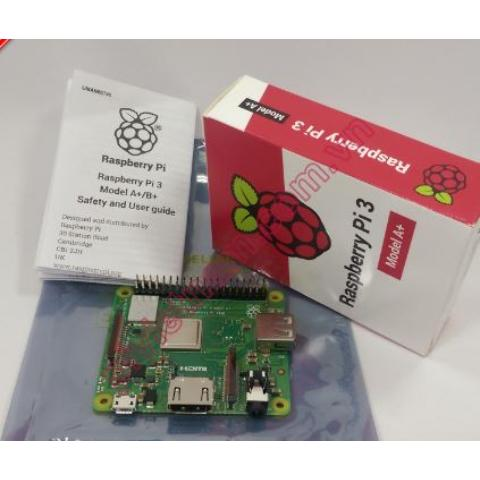Raspberry-Pi-3-Model-A-: (88, 270, 302, 428)
